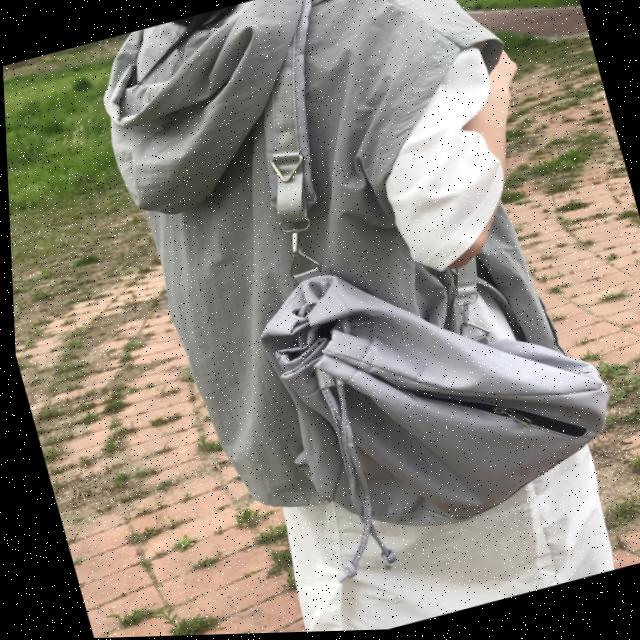backpack: (219, 180, 640, 580)
